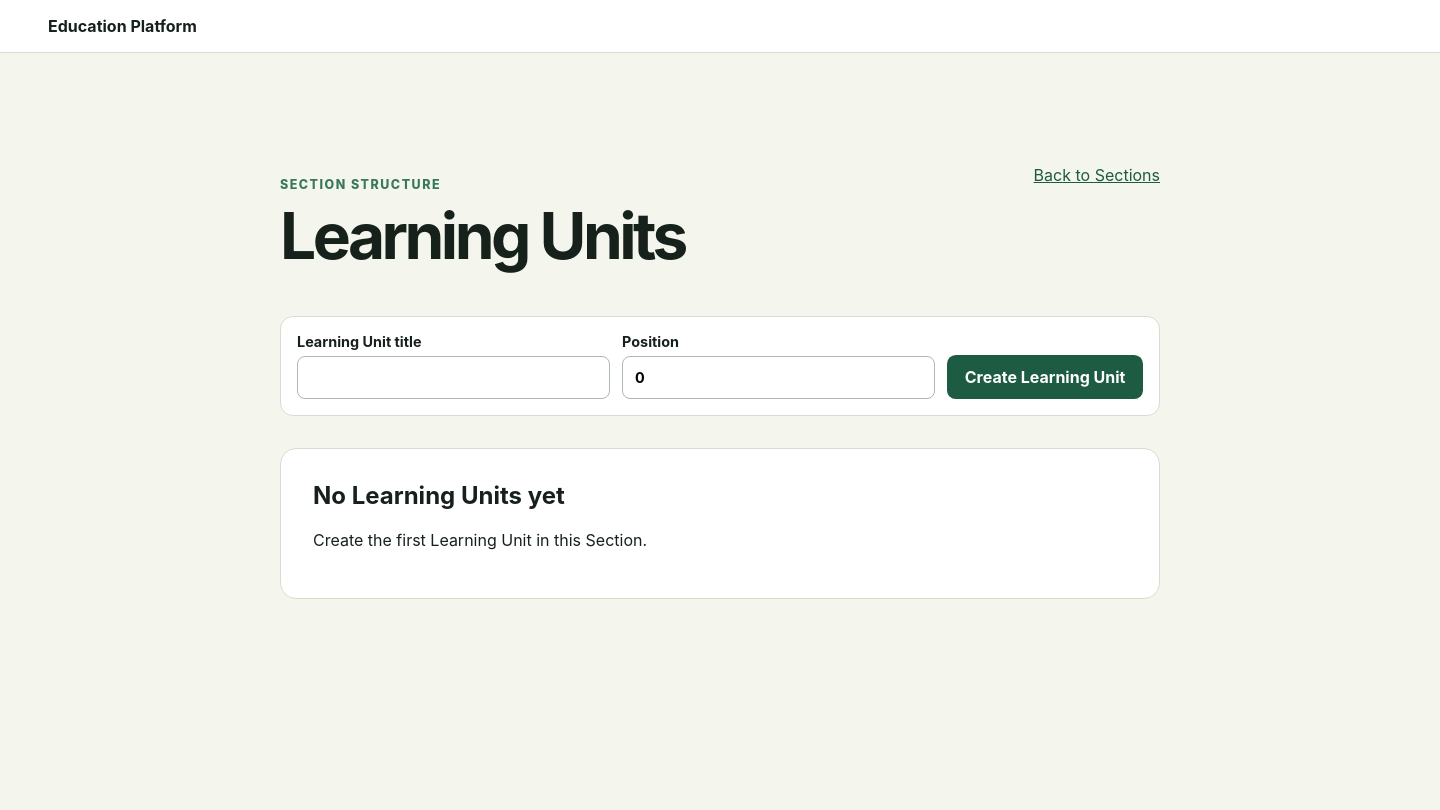
it: Learning Unit UI › creates a Learning Unit and refetches the scoped list
The image size is (1440, 810).
Type "Lesson One" into the field labelled "Learning Unit title" at (454, 378), box [297,356,610,399]
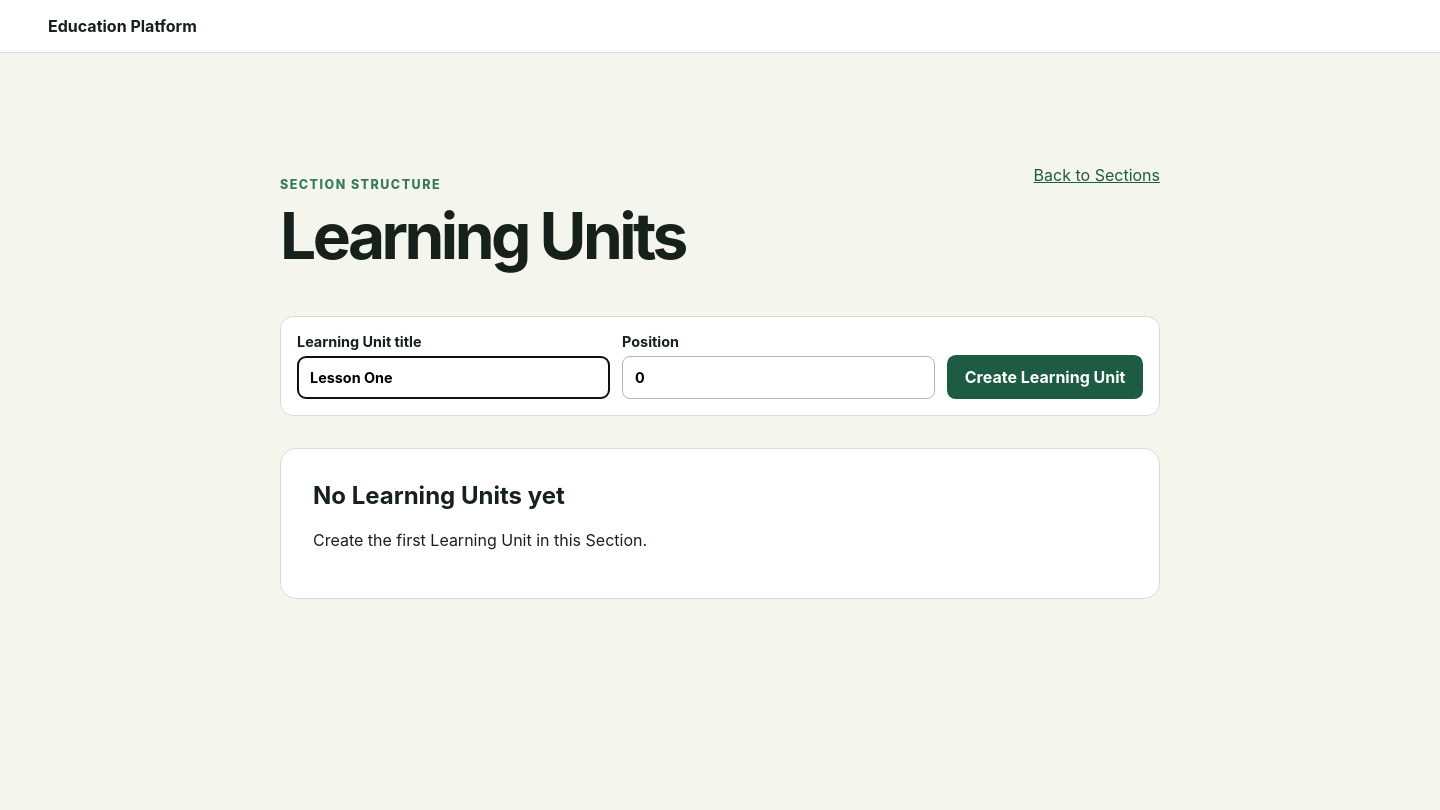
Click the button "Create Learning Unit" at (1045, 377), box [947,355,1143,399]
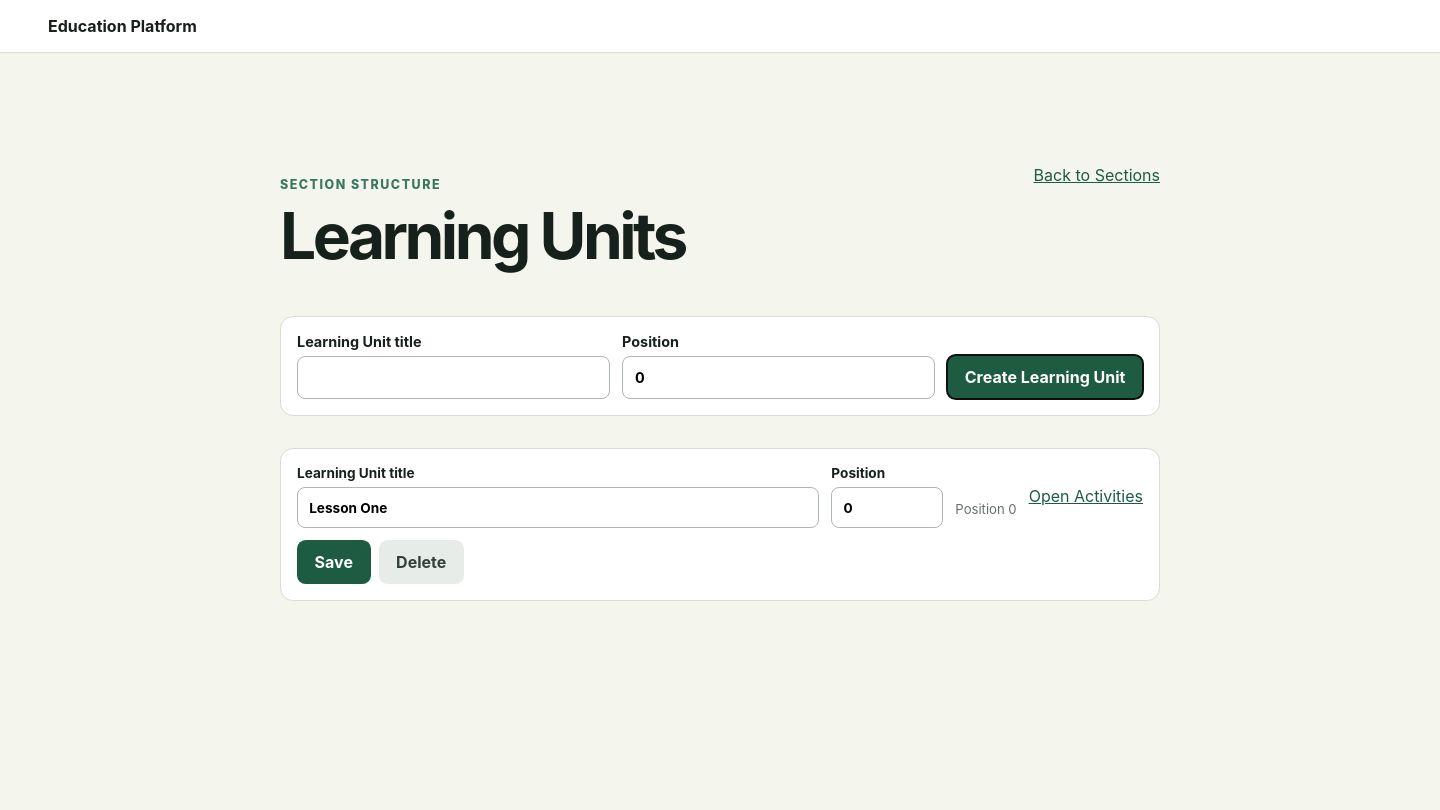
Now the field showing "Lesson One" in the row of "Open Activities" is shown, box [297,487,819,528]
